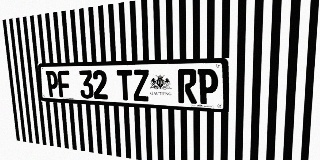2: (92, 70, 108, 99)
3: (79, 70, 94, 99)
F: (57, 70, 71, 98)
P: (198, 69, 218, 105), (46, 71, 59, 97)
R: (178, 69, 197, 104)
T: (117, 70, 133, 101)
Z: (132, 69, 150, 101)
